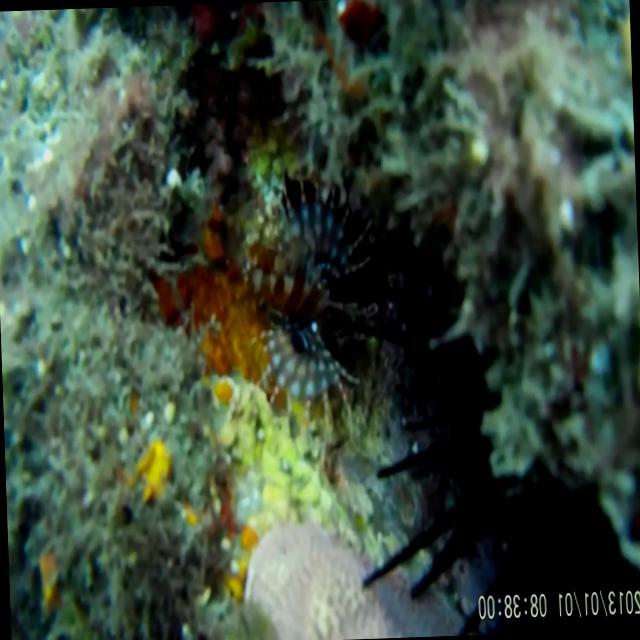Aslan Baligi: (202, 128, 416, 438)
